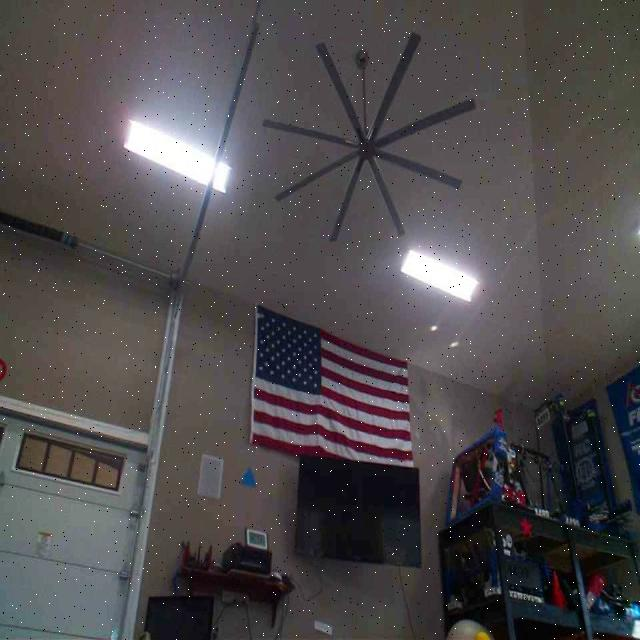star_red: (521, 516, 532, 536)
triangle_blue: (239, 467, 257, 487)
